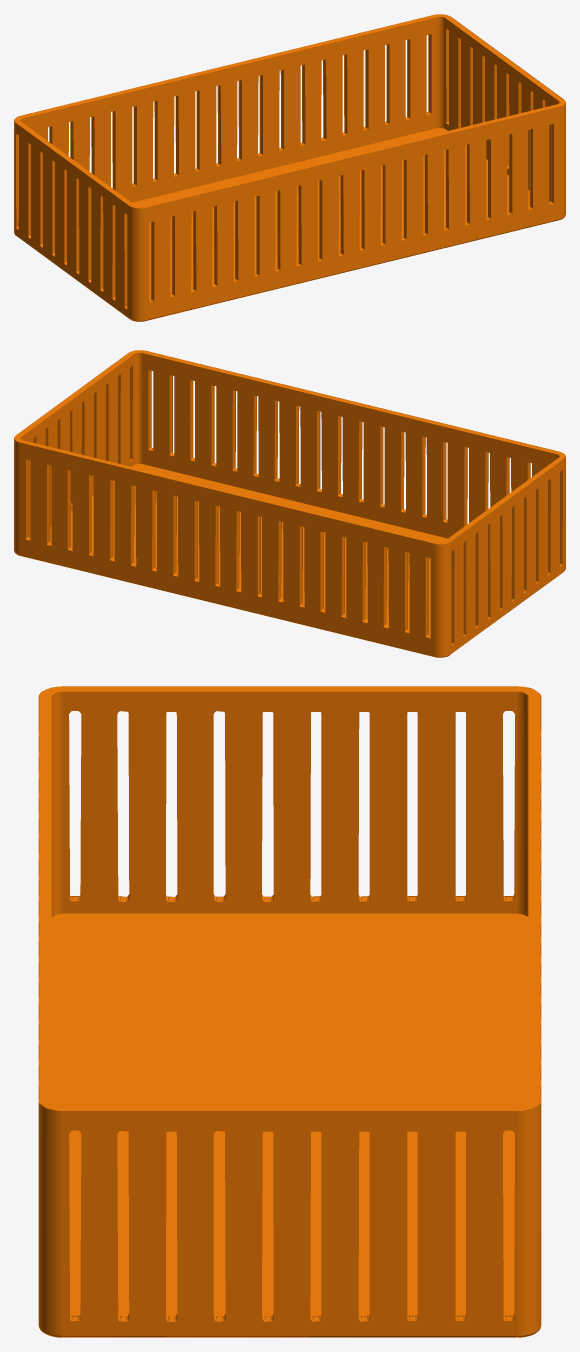
The model's file is KE CHUA.fbx.
The picture shows the model from 3 angles, top to bottom: view 1: azimuth 30°, elevation 25°; view 2: azimuth 150°, elevation 25°; view 3: azimuth 270°, elevation 25°; orthographic projection. The views are drawn at different scales.
Visible parts, largest first — view 1: Part 29, Part 35; view 2: Part 29, Part 35; view 3: Part 29, Part 35.
Part boxes in pixels (bbox=[...]): Part 29: bbox=[14, 14, 565, 321]; Part 35: bbox=[16, 28, 545, 309]; Part 29: bbox=[14, 350, 565, 657]; Part 35: bbox=[33, 365, 562, 645]; Part 29: bbox=[38, 686, 541, 1337]; Part 35: bbox=[38, 711, 541, 1321].
Size of the model in its own units: 800 by 200 by 400.
